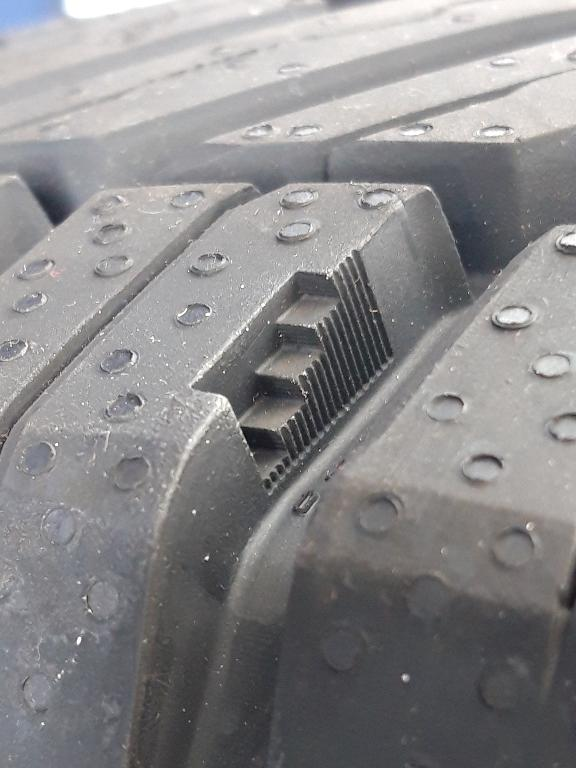temoin:100: (184, 244, 404, 506)
